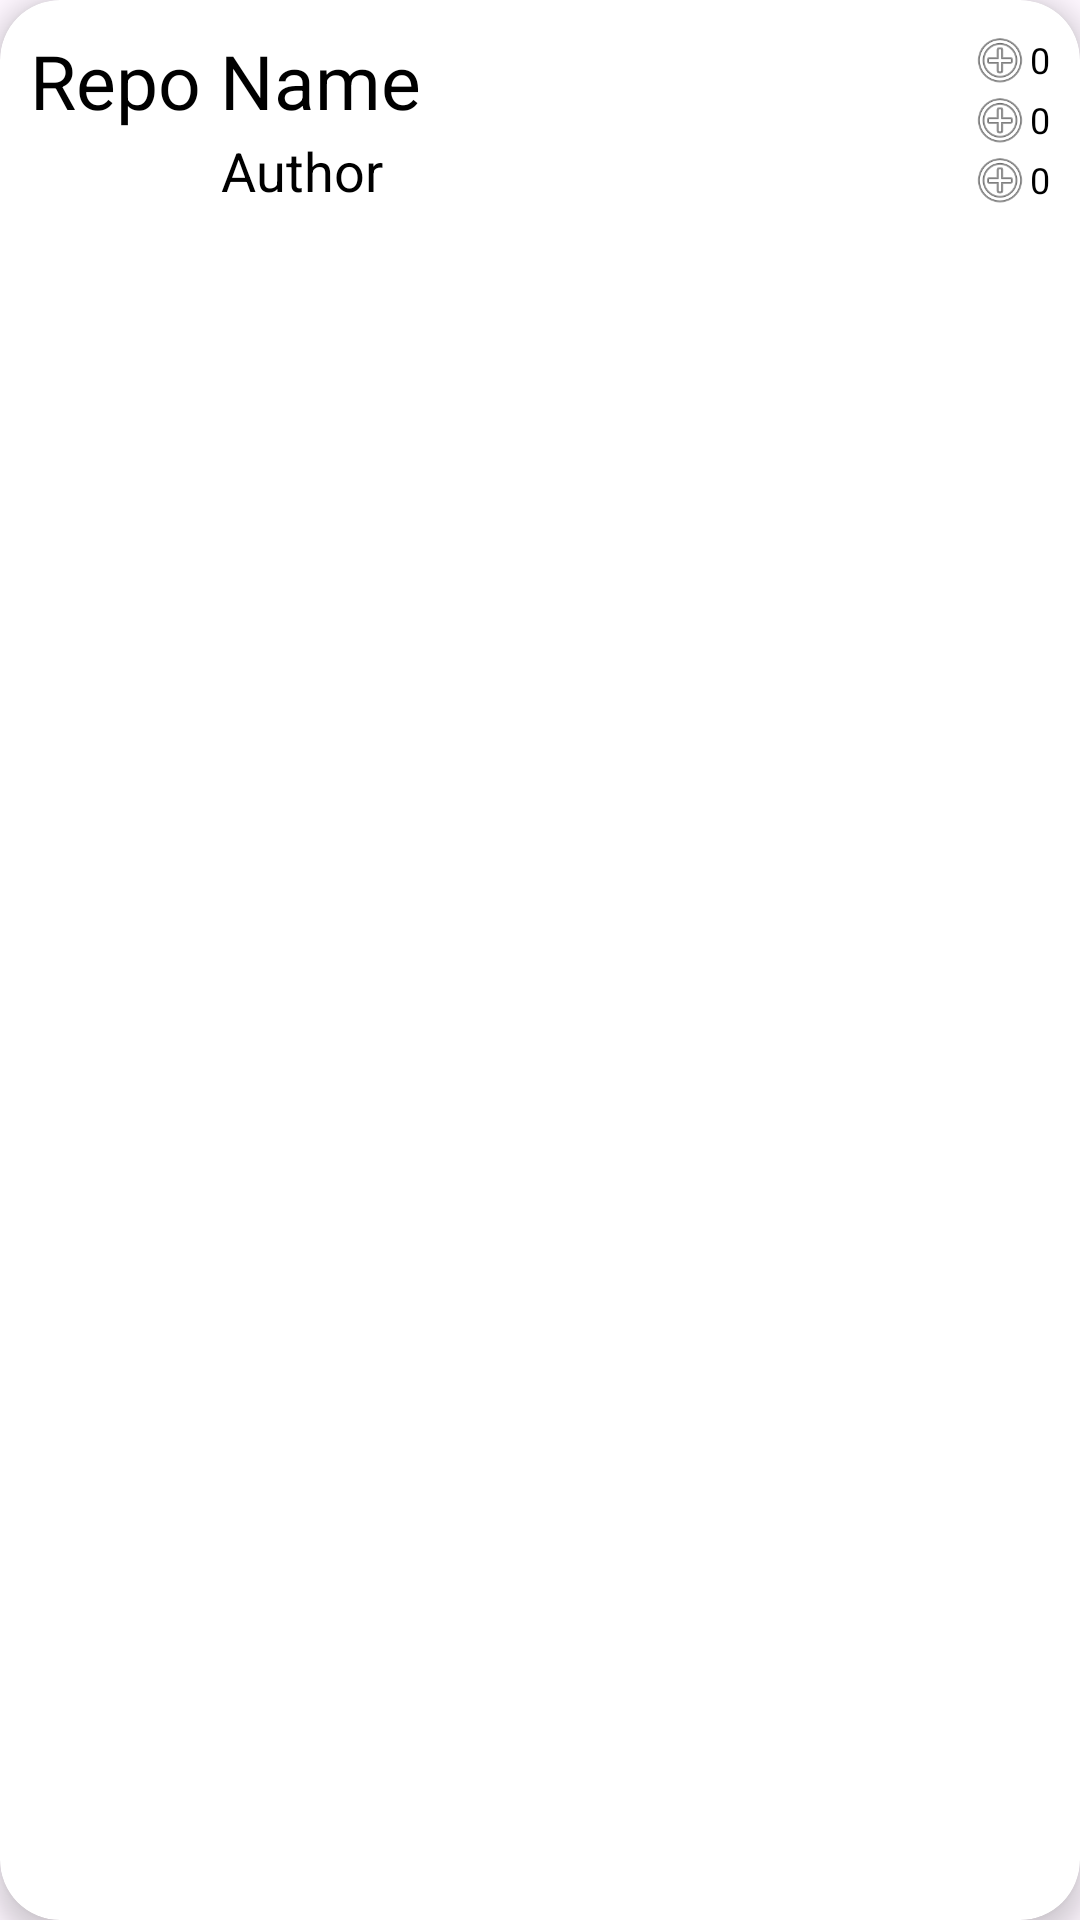

Icons on this 1080*1920 Android screen, each with its box as [left=x1, top=y1, right=x2, bottom=y2]:
add: [left=978, top=38, right=1022, bottom=83], [left=978, top=98, right=1022, bottom=143], [left=978, top=158, right=1022, bottom=203]
